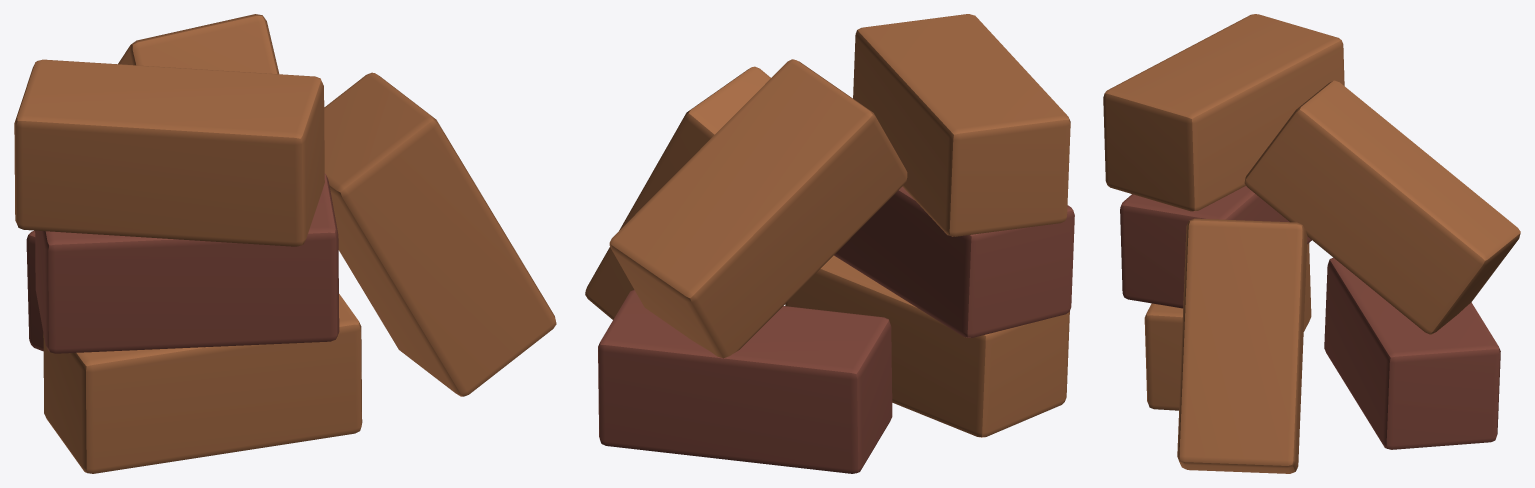
The model's file is brick cluster 2.fbx.
The picture shows the model from 3 angles, left to right: view 1: azimuth 30°, elevation 25°; view 2: azimuth 150°, elevation 25°; view 3: azimuth 270°, elevation 25°; orthographic projection. The views are drawn at different scales.
Visible parts, largest first — view 1: polySurface347; view 2: polySurface347; view 3: polySurface347.
Boxes of the visible parts, bbox=[...] form: polySurface347: bbox=[14, 14, 556, 473]; polySurface347: bbox=[585, 14, 1074, 473]; polySurface347: bbox=[1103, 14, 1520, 473].
Size of the model in its own units: 0.8149 by 0.5684 by 0.6999.
